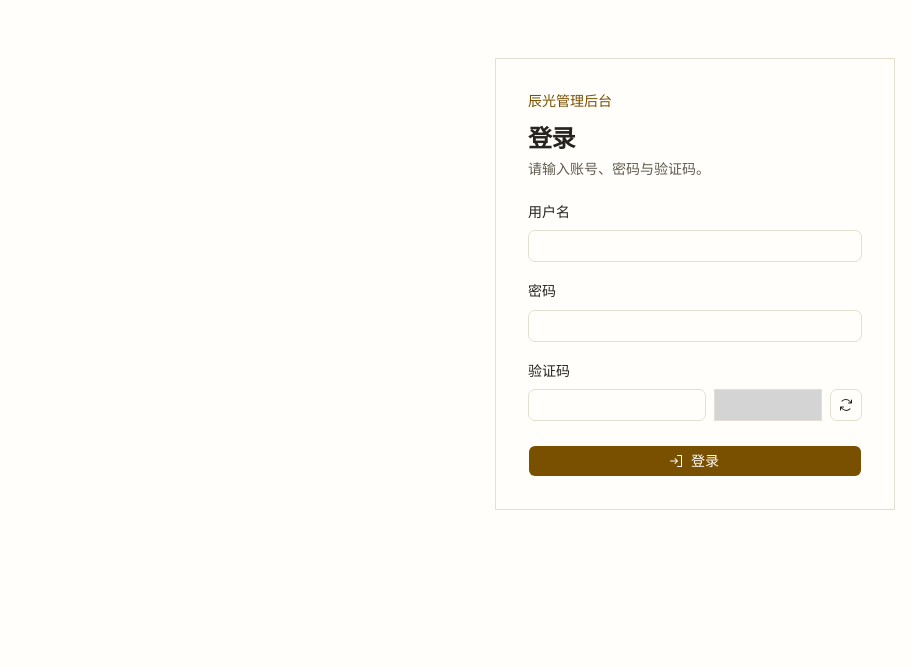
Scenario: LoginPage › keeps the username, clears the password and refreshes the captcha after a business failure
Step 1. Type "admin" into the field labelled "用户名" → (695, 246), box [528, 230, 862, 262]
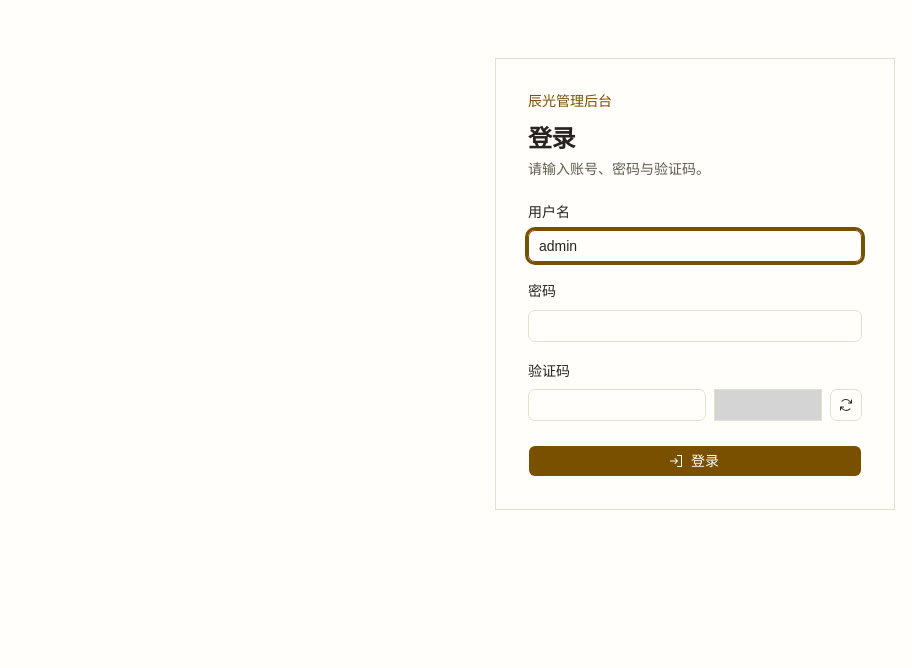
Step 2. Type "secret123" into the password field labelled "密码" → (695, 326), box [528, 310, 862, 342]
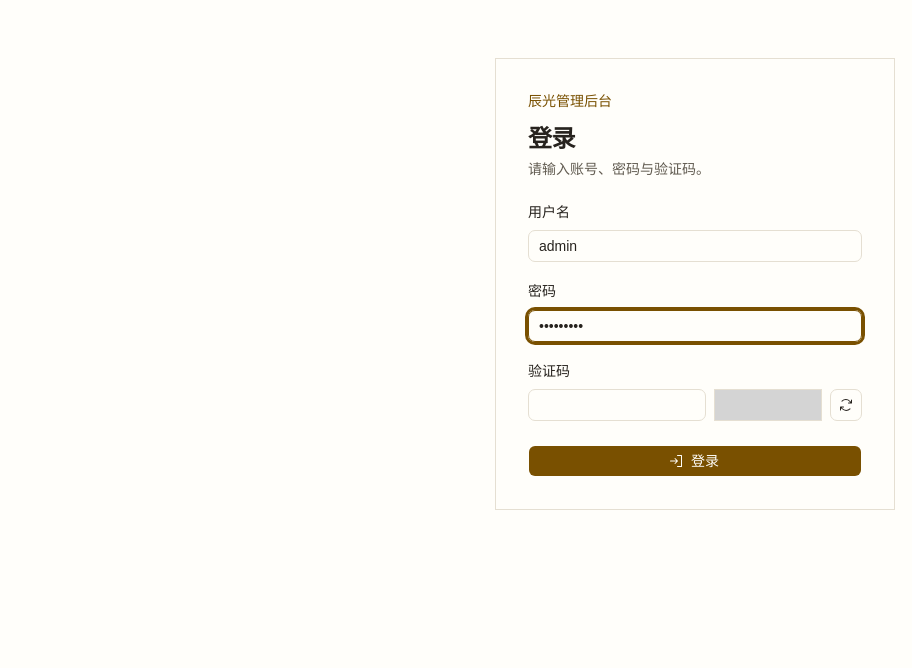
Step 3. Type "A2BC" into the field labelled "验证码" → (617, 405), box [528, 389, 706, 421]
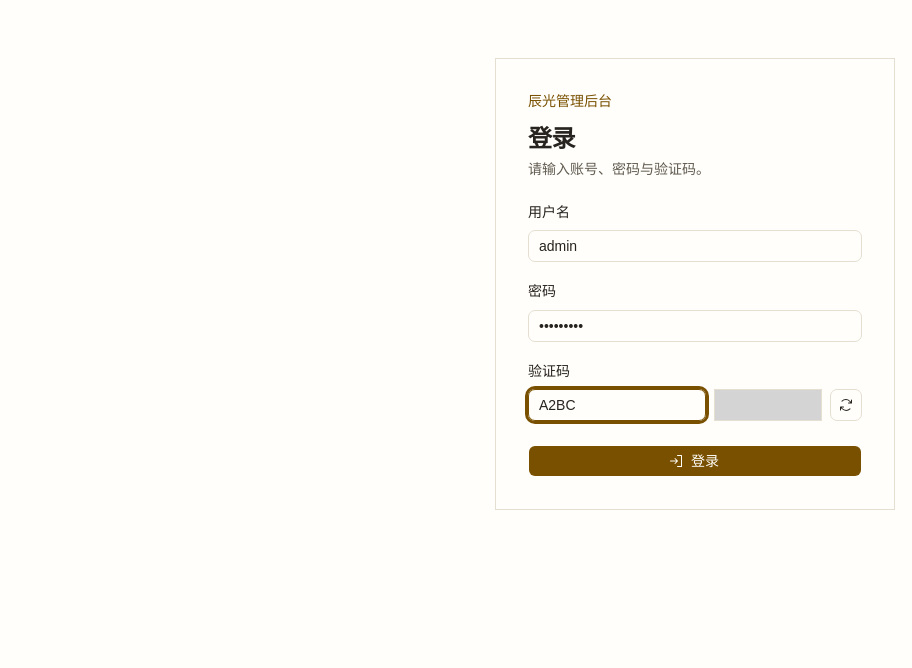
Step 4. Click the button "登录" → (695, 461), box [528, 445, 862, 477]
(page scrolled)
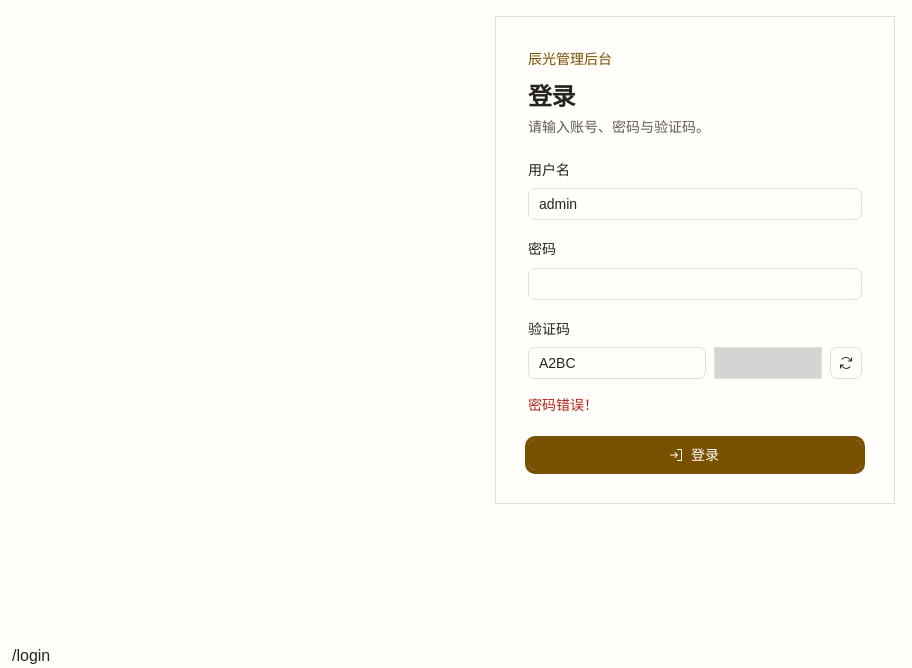
Expected: the text with test id "location" reads "/login", [12, 647, 50, 664]
Expected: the message reads "密码错误！", [528, 397, 598, 413]
Expected: the password field labelled "密码" is empty, [528, 268, 862, 300]
